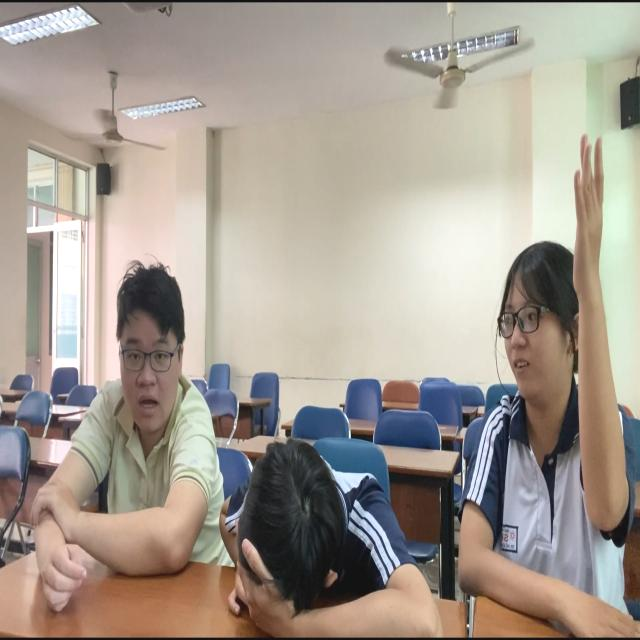raise_hand: (477, 128, 640, 640)
sleep: (213, 418, 436, 640)
